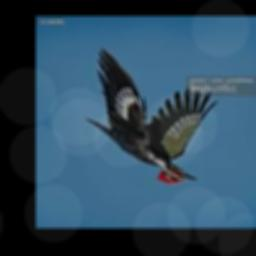Woodpecker: (85, 48, 218, 185)
